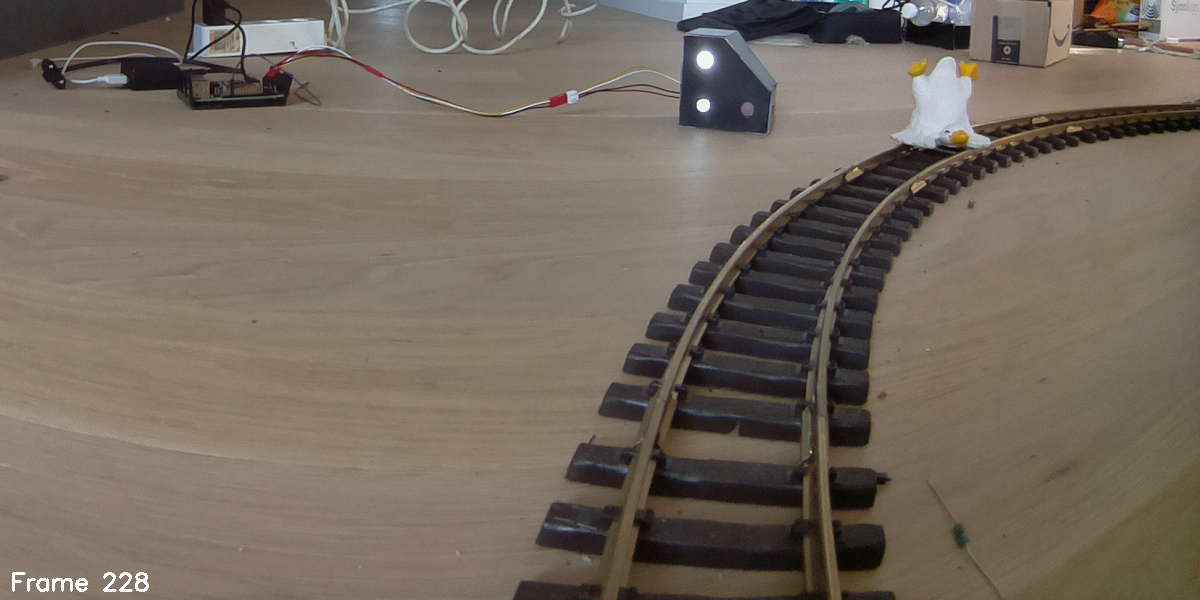Ente: (893, 54, 997, 154)
Fahrt: (679, 30, 773, 133)
